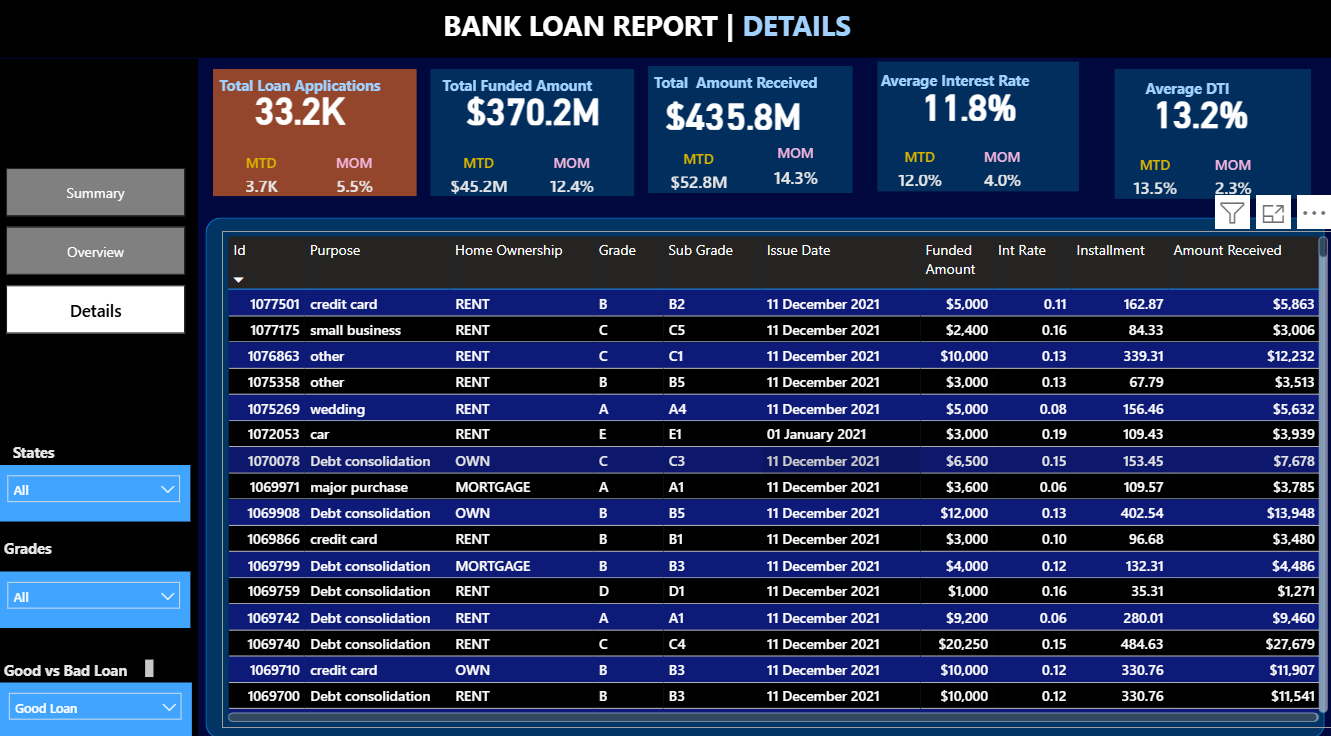

The dashboard page shown, as its layout file describes it:
{"tool":"powerbi","page":{"name":"Details","canvas":[1280,720],"ordinal":2},"visuals":[{"type":"shape","box":[0,0,1280.4,55],"z":0},{"type":"shape","box":[0,55.7,192,665],"z":1000},{"type":"textbox","box":[421.5,0,439,54.1],"z":2000},{"type":"shape","box":[840.7,58.9,192.5,124.1],"z":3000,"group":"g4"},{"type":"shape","box":[622.1,64.1,195.4,121.5],"z":3000,"group":"g3"},{"type":"group","id":"g1","title":"Group 1","box":[133.6,65.2,311.8,122.5],"z":3000},{"type":"shape","box":[206.6,65.7,194.4,121.5],"z":3000,"group":"g1"},{"type":"shape","box":[414.2,65.7,194.4,121.5],"z":3000,"group":"g5"},{"type":"shape","box":[1066.9,66.2,187.7,124.1],"z":3000,"group":"g6"},{"type":"group","id":"g2","title":"Group 1","box":[341.2,65.2,311.8,122.5],"z":4000},{"type":"card","fields":{"Values":["financial_loan.Average Interest Rate"]},"box":[854.9,78.9,145.4,41.4],"z":4000,"group":"g4"},{"type":"card","fields":{"Values":["financial_loan.Total Loan Applications"]},"box":[222.8,79.8,133.7,44.6],"z":4000,"group":"g1"},{"type":"card","fields":{"Values":["financial_loan.Total Funded Amount"]},"box":[429.8,83,163.8,41.4],"z":4000,"group":"g5"},{"type":"card","fields":{"Values":["financial_loan.Avg DTI"]},"box":[1079.9,86.2,137.9,41.4],"z":4000,"group":"g6"},{"type":"card","fields":{"Values":["financial_loan.Total Amount Received"]},"box":[620.8,88.1,165.4,41.4],"z":4000,"group":"g3"},{"type":"textbox","box":[776.2,61.1,276.8,36.6],"z":5000,"group":"g4"},{"type":"textbox","box":[548.8,63.6,313.4,36.6],"z":5000,"group":"g3"},{"type":"textbox","box":[133.6,65.2,311.8,36.6],"z":5000,"group":"g1"},{"type":"textbox","box":[341.2,65.2,311.8,36.6],"z":5000,"group":"g5"},{"type":"textbox","box":[1005.3,68.4,262.5,36.6],"z":5000,"group":"g6"},{"type":"shape","box":[198.8,208.4,1068.9,497.9],"z":5000},{"type":"group","id":"g3","title":"Group 2","box":[548.8,63.6,313.4,126.3],"z":6000},{"type":"card","title":"MTD","fields":{"Values":["financial_loan.MTD Avg Interest Rate"]},"box":[848.2,140.7,66.4,41.4],"z":6000,"group":"g4"},{"type":"card","title":"MTD","fields":{"Values":["financial_loan.MTD Total Amount Received"]},"box":[631.9,142.1,76.3,41.4],"z":6000,"group":"g3"},{"type":"card","title":"MTD","fields":{"Values":["financial_loan.MTD Loan Applications"]},"box":[214.7,144.7,74.8,41.4],"z":6000,"group":"g1"},{"type":"card","title":"MTD","fields":{"Values":["financial_loan.MTD Funded Amount"]},"box":[422.3,144.7,74.8,41.4],"z":6000,"group":"g5"},{"type":"card","title":"MTD","fields":{"Values":["financial_loan.MTD Avg DTI"]},"box":[1073.6,148,62.9,41.4],"z":6000,"group":"g6"},{"type":"group","id":"g4","title":"Group 2","box":[776.2,58.9,276.8,124.1],"z":7000},{"type":"card","title":"MOM","fields":{"Values":["financial_loan.MOM Total Amount Received"]},"box":[728.9,137.4,66.8,52.5],"z":7000,"group":"g3"},{"type":"card","title":"MOM","fields":{"Values":["financial_loan.MOM Avg Interest Rate"]},"box":[927.3,140.7,66.4,41.4],"z":7000,"group":"g4"},{"type":"card","title":"MOM","fields":{"Values":["financial_loan.MOM Loan Applications"]},"box":[303.8,144.7,74.8,41.4],"z":7000,"group":"g1"},{"type":"card","title":"MOM","fields":{"Values":["financial_loan.MOM Total Funded Amount"]},"box":[511.4,144.7,74.8,41.4],"z":7000,"group":"g5"},{"type":"card","title":"MOM","fields":{"Values":["financial_loan.MOM Avg DTI"]},"box":[1148.6,148,62.9,41.4],"z":7000,"group":"g6"},{"type":"group","id":"g5","title":"Group 2","box":[341.2,65.2,311.8,122],"z":7003,"group":"g2"},{"type":"group","id":"g6","title":"Group 2","box":[1005.3,66.2,262.5,124.1],"z":8000},{"type":"slicer","fields":{"Values":["financial_loan.address_state"]},"box":[0,443.8,184.5,54.1],"z":9000},{"type":"slicer","fields":{"Values":["financial_loan.grade"]},"box":[0,545.6,184.5,54.1],"z":11000},{"type":"textbox","box":[1.6,509,68.4,36.6],"z":12000},{"type":"slicer","fields":{"Values":["financial_loan.Good Loan vs Bad Loan"]},"box":[1.6,652.2,184.5,54.1],"z":13000},{"type":"textbox","box":[1.6,625.1,152.7,27],"z":14000},{"type":"textbox","box":[10,417.2,68.4,36.6],"z":16000},{"type":"tableEx","fields":{"Values":["financial_loan.id","financial_loan.purpose","financial_loan.home_ownership","financial_loan.grade","financial_loan.sub_grade","financial_loan.issue_date","financial_loan.Total Funded Amount","Sum(financial_loan.int_rate)","Sum(financial_loan.installment)","financial_loan.Total Amount Received"]},"box":[214.7,220.8,1061.3,473.9],"z":17000},{"type":"pageNavigator","box":[8,160.7,171.8,160.7],"z":18000}]}

Visuals, with their boxes in screenshot pixels (x1, y1, x2, y2), scaled from the page's 1280x720 canvas onto the 1331x736 screenshot:
shape: (left=0, top=0, right=1330, bottom=56)
shape: (left=0, top=57, right=200, bottom=735)
textbox: (left=438, top=0, right=895, bottom=55)
shape: (left=874, top=60, right=1074, bottom=187)
shape: (left=647, top=66, right=850, bottom=190)
"Group 1" group: (left=139, top=67, right=463, bottom=192)
shape: (left=215, top=67, right=417, bottom=191)
shape: (left=431, top=67, right=633, bottom=191)
shape: (left=1109, top=68, right=1305, bottom=195)
"Group 1" group: (left=355, top=67, right=679, bottom=192)
card - financial_loan.Average Interest Rate: (left=889, top=81, right=1040, bottom=123)
card - financial_loan.Total Loan Applications: (left=232, top=82, right=371, bottom=127)
card - financial_loan.Total Funded Amount: (left=447, top=85, right=617, bottom=127)
card - financial_loan.Avg DTI: (left=1123, top=88, right=1266, bottom=130)
card - financial_loan.Total Amount Received: (left=646, top=90, right=818, bottom=132)
textbox: (left=807, top=62, right=1095, bottom=100)
textbox: (left=571, top=65, right=897, bottom=102)
textbox: (left=139, top=67, right=463, bottom=104)
textbox: (left=355, top=67, right=679, bottom=104)
textbox: (left=1045, top=70, right=1318, bottom=107)
shape: (left=207, top=213, right=1318, bottom=722)
"Group 2" group: (left=571, top=65, right=897, bottom=194)
"MTD" card: (left=882, top=144, right=951, bottom=186)
"MTD" card: (left=657, top=145, right=736, bottom=188)
"MTD" card: (left=223, top=148, right=301, bottom=190)
"MTD" card: (left=439, top=148, right=517, bottom=190)
"MTD" card: (left=1116, top=151, right=1182, bottom=194)
"Group 2" group: (left=807, top=60, right=1095, bottom=187)
"MOM" card: (left=758, top=140, right=827, bottom=194)
"MOM" card: (left=964, top=144, right=1033, bottom=186)
"MOM" card: (left=316, top=148, right=394, bottom=190)
"MOM" card: (left=532, top=148, right=610, bottom=190)
"MOM" card: (left=1194, top=151, right=1260, bottom=194)
"Group 2" group: (left=355, top=67, right=679, bottom=191)
"Group 2" group: (left=1045, top=68, right=1318, bottom=195)
slicer - financial_loan.address_state: (left=0, top=454, right=192, bottom=509)
slicer - financial_loan.grade: (left=0, top=558, right=192, bottom=613)
textbox: (left=2, top=520, right=73, bottom=558)
slicer - financial_loan.Good Loan vs Bad Loan: (left=2, top=667, right=194, bottom=722)
textbox: (left=2, top=639, right=160, bottom=667)
textbox: (left=10, top=426, right=82, bottom=464)
tableEx - financial_loan.id x financial_loan.purpose: (left=223, top=226, right=1327, bottom=710)
pageNavigator: (left=8, top=164, right=187, bottom=329)
